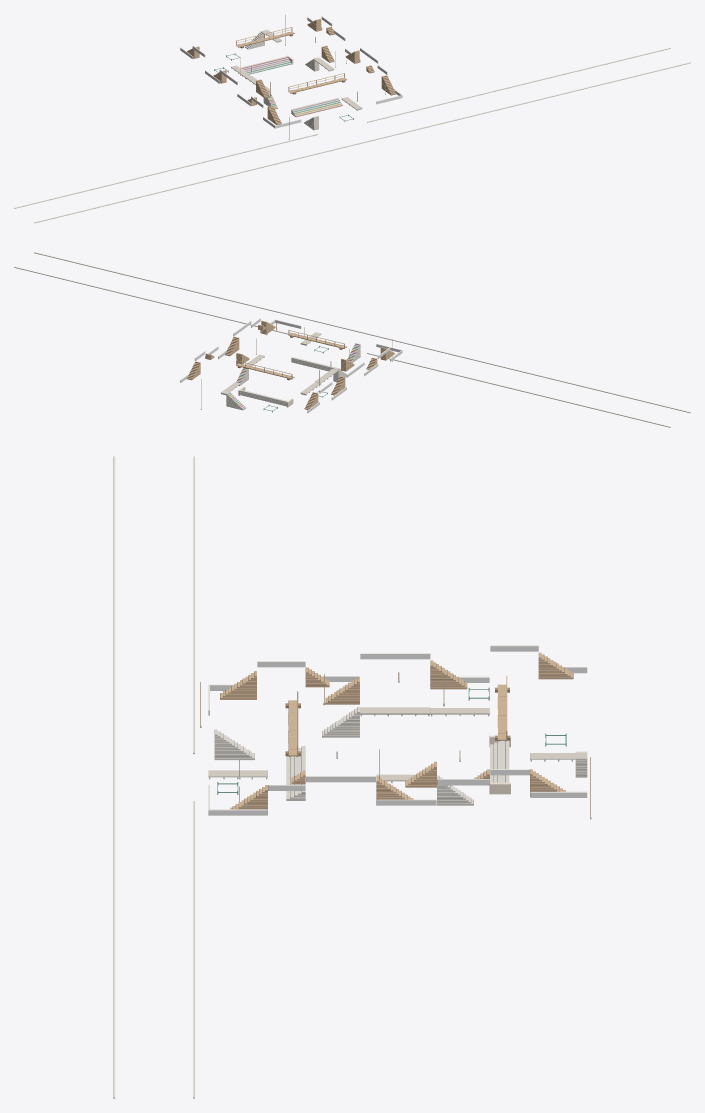
The model's file is alley_steps.glb.
3 renders of one model, top to bottom at view 1: azimuth 30°, elevation 25°; view 2: azimuth 150°, elevation 25°; view 3: azimuth 270°, elevation 25°, orthographic. The views are drawn at different scales.
Visible parts, largest first — view 1: alley_steps; view 2: alley_steps; view 3: alley_steps.
Boxes of the visible parts, <box> form: alley_steps: <box>14,15,690,223</box>; alley_steps: <box>14,252,690,427</box>; alley_steps: <box>113,456,591,1098</box>.
Bounding box in the file's own units: 140 × 7.66 × 44.14.
